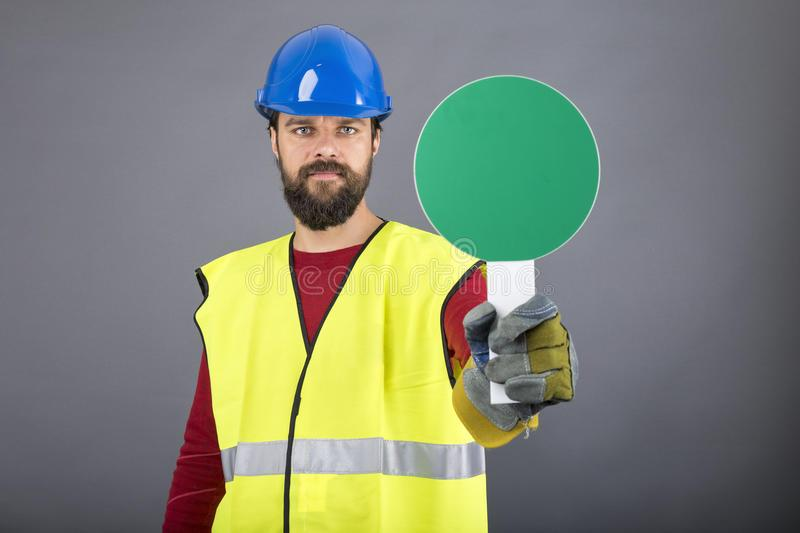helmet: (256, 26, 396, 120)
